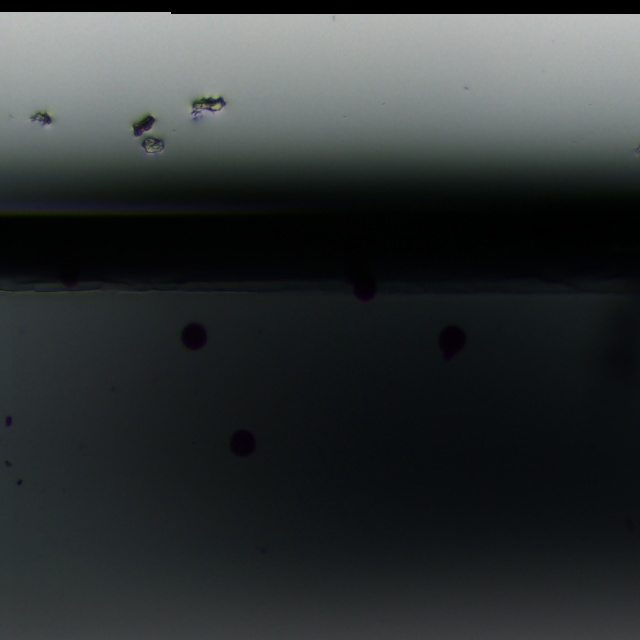viable: (439, 326, 465, 360), (182, 324, 207, 350), (231, 430, 255, 456)
